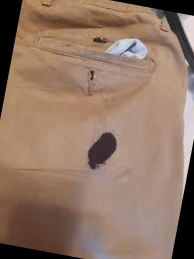ink: (85, 127, 121, 171)
